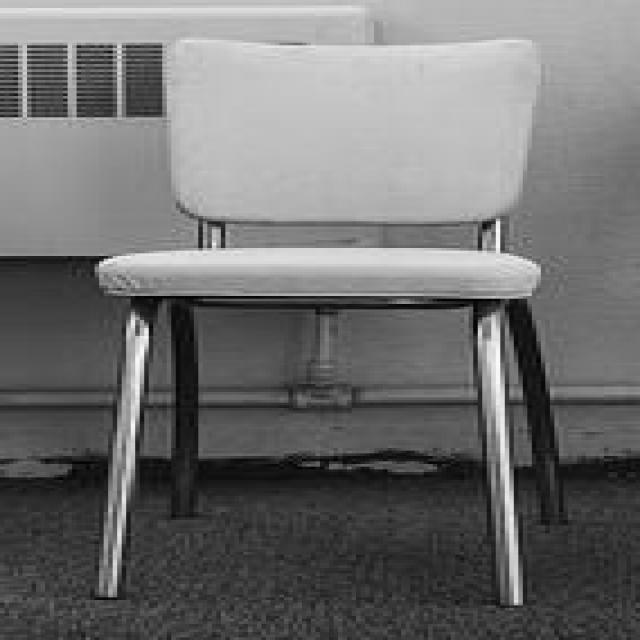chair: (79, 33, 565, 601)
